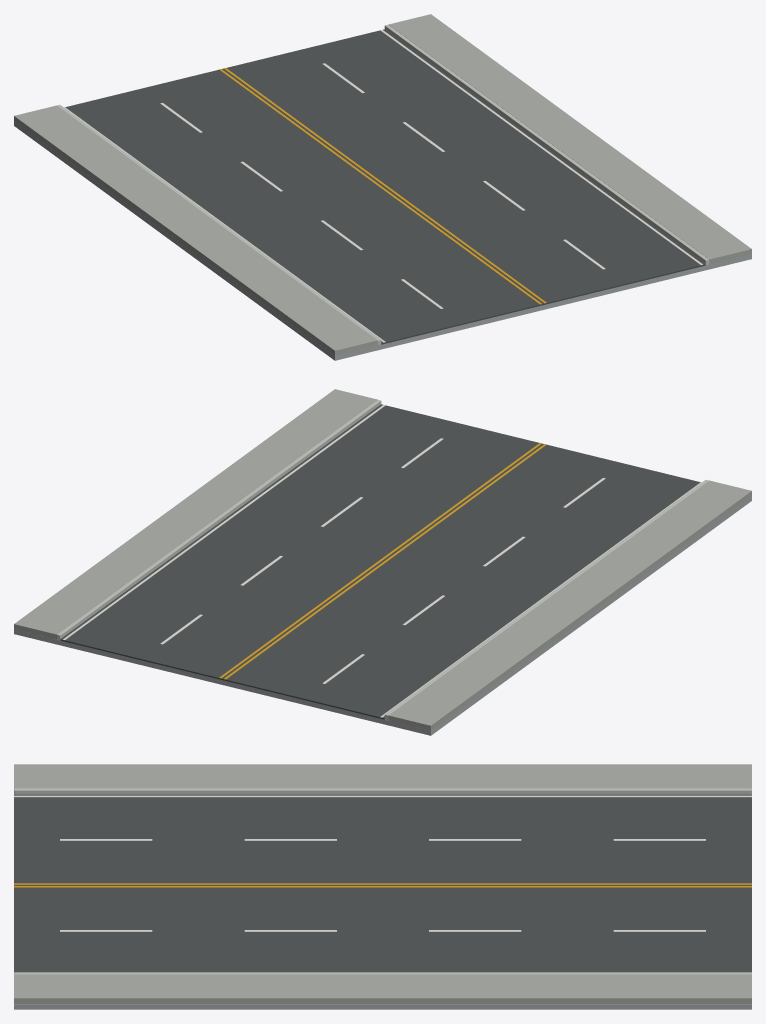
File: road-straight.glb
The picture shows the model from 3 angles, top to bottom: view 1: azimuth 30°, elevation 25°; view 2: azimuth 150°, elevation 25°; view 3: azimuth 270°, elevation 25°; orthographic projection. The views are drawn at different scales.
Visible parts, largest first — view 1: road-straight_bituminous-asphalt, road-straight_concrete-pavers, road-straight_cast-concrete, road-straight_light-precast-concrete, road-straight_off-white-painted, road-straight_safety-yellow; view 2: road-straight_bituminous-asphalt, road-straight_concrete-pavers, road-straight_cast-concrete, road-straight_light-precast-concrete, road-straight_off-white-painted, road-straight_safety-yellow; view 3: road-straight_bituminous-asphalt, road-straight_concrete-pavers, road-straight_light-precast-concrete, road-straight_cast-concrete, road-straight_off-white-painted, road-straight_safety-yellow.
Boxes of the visible parts, x1,y1,x2,y2 form: road-straight_bituminous-asphalt: (65, 29, 705, 344); road-straight_concrete-pavers: (14, 14, 751, 355); road-straight_cast-concrete: (14, 121, 751, 360); road-straight_light-precast-concrete: (57, 24, 709, 345); road-straight_off-white-painted: (64, 29, 702, 342); road-straight_safety-yellow: (219, 68, 546, 304); road-straight_bituminous-asphalt: (60, 404, 700, 719); road-straight_concrete-pavers: (14, 389, 751, 730); road-straight_cast-concrete: (14, 496, 751, 735); road-straight_light-precast-concrete: (56, 399, 708, 720); road-straight_off-white-painted: (63, 404, 701, 717); road-straight_safety-yellow: (219, 443, 546, 679); road-straight_bituminous-asphalt: (14, 794, 751, 972); road-straight_concrete-pavers: (14, 764, 751, 1003); road-straight_light-precast-concrete: (14, 788, 751, 974); road-straight_cast-concrete: (14, 1004, 751, 1009); road-straight_off-white-painted: (14, 795, 751, 931); road-straight_safety-yellow: (14, 883, 751, 887).
Size of the model in its own units: 18 by 0.414 by 24.
Materials: 4 (4 with a texture image).
